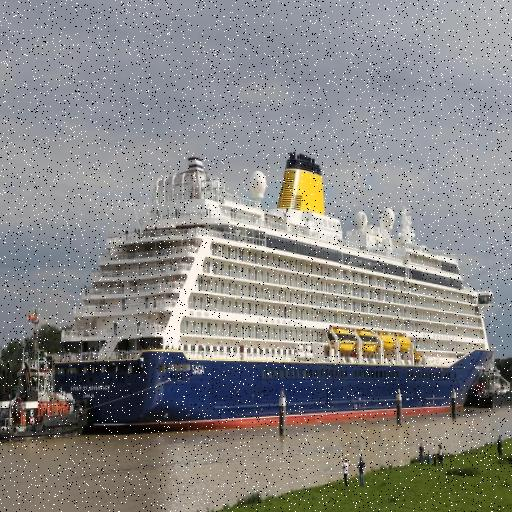cruises: (50, 134, 500, 427)
